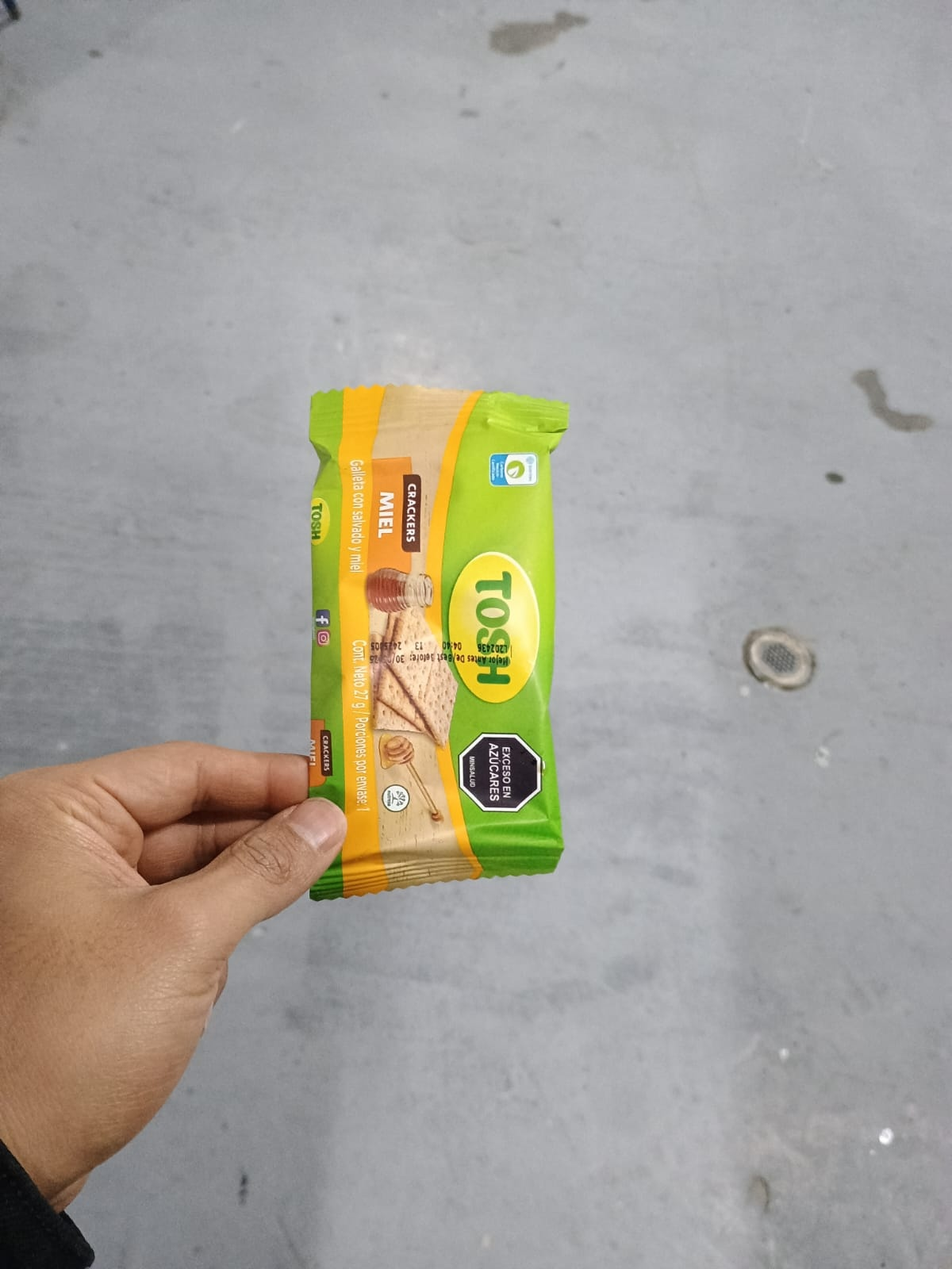Ordinario: (303, 384, 575, 901)
